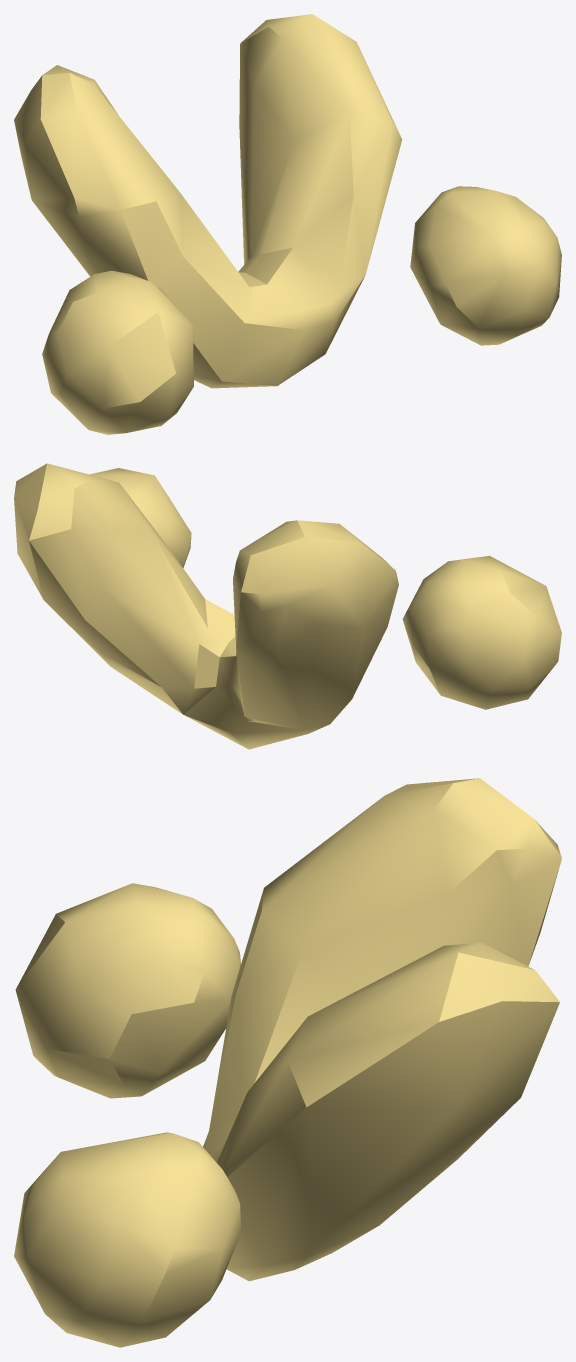
The model's file is fma62032.glb.
The picture shows the model from 3 angles, top to bottom: view 1: azimuth 30°, elevation 25°; view 2: azimuth 150°, elevation 25°; view 3: azimuth 270°, elevation 25°; orthographic projection. The views are drawn at different scales.
Visible parts, largest first — view 1: FMA62032; view 2: FMA62032; view 3: FMA62032.
Boxes of the visible parts, x1,y1,x2,y2 form: FMA62032: (14,14,561,434); FMA62032: (14,463,561,749); FMA62032: (14,778,561,1347).
Size of the model in its own units: 0.00721 by 0.00403 by 0.00492.
